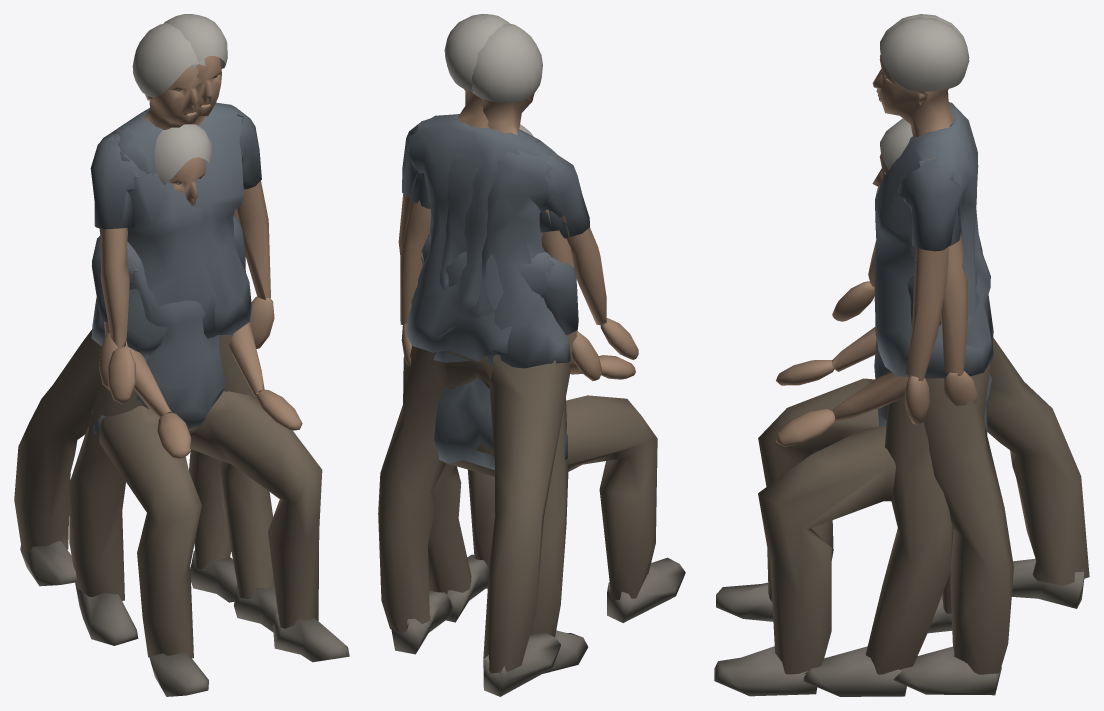
The model's file is crowd-09-far.glb.
3 renders of one model, left to right at view 1: azimuth 30°, elevation 25°; view 2: azimuth 150°, elevation 25°; view 3: azimuth 270°, elevation 25°, orthographic. The views are drawn at different scales.
Visible parts, largest first — view 1: seated, walking, standing; view 2: walking, standing, seated; view 3: standing, walking, seated.
Part boxes in pixels (<box>): seated: <box>91,124,349,696</box>; walking: <box>14,23,277,631</box>; standing: <box>69,14,274,645</box>; walking: <box>400,23,638,696</box>; standing: <box>378,14,601,673</box>; seated: <box>421,124,685,622</box>; standing: <box>873,17,1013,695</box>; walking: <box>803,14,1089,696</box>; seated: <box>714,118,991,696</box>.
Bounding box in the file's own units: 0.5262 × 1.58 × 0.8299.
